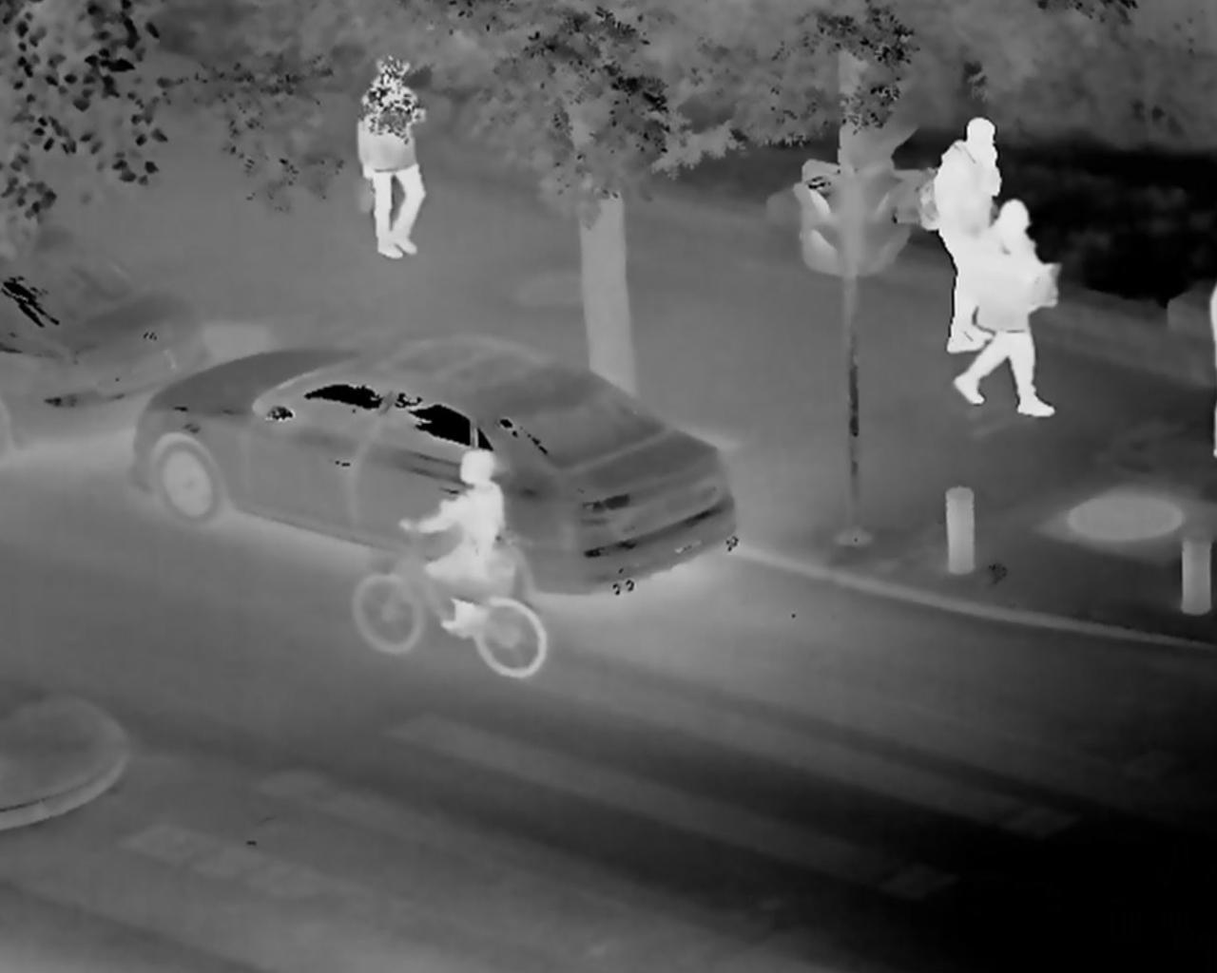person: (393, 442, 515, 635), (342, 43, 441, 265), (966, 191, 1053, 427), (921, 108, 1001, 355)
